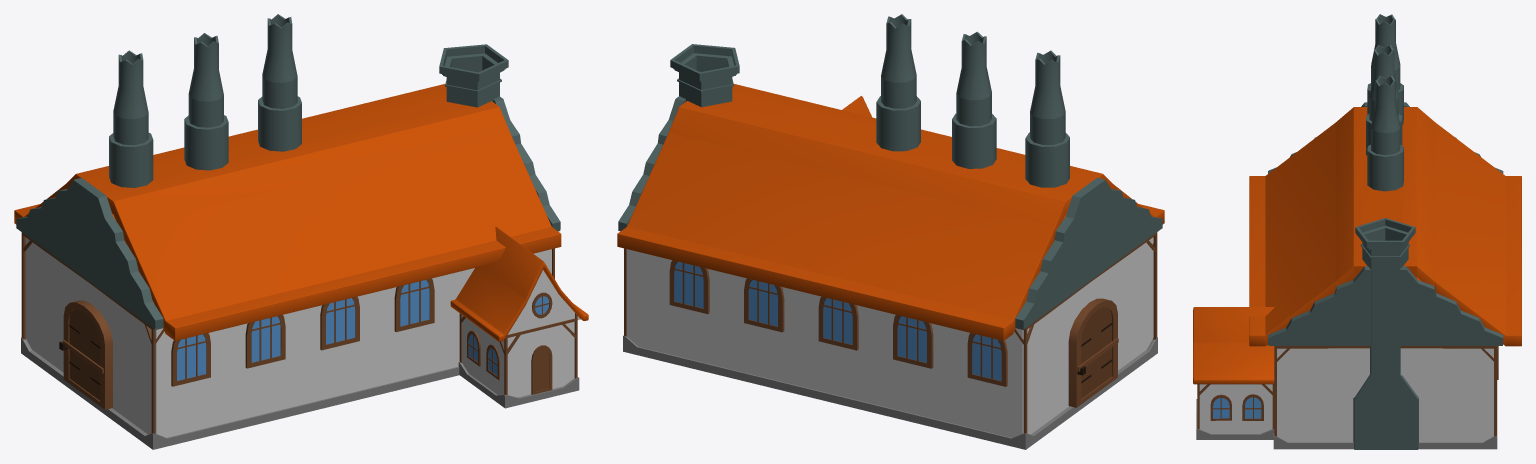
Rendered from factory.fbx.
The picture shows the model from 3 angles, left to right: view 1: azimuth 30°, elevation 25°; view 2: azimuth 150°, elevation 25°; view 3: azimuth 270°, elevation 25°; orthographic projection. The views are drawn at different scales.
Parts seen in each view (by area): view 1: Cube.028, Cube.001, Cube.003, Cube.007, Cube.006, Cylinder.002, Cylinder.006, Cylinder.003, Cube.000, Cylinder.011, Cylinder.018, Plane (+10 smaller); view 2: Cube.028, Cube.001, Cube.003, Cube.000, Cylinder.002, Cylinder.003, Cylinder.006, Cylinder.011, Cylinder.018, Plane, Cylinder.014, Cylinder.016 (+5 smaller); view 3: Cube.028, Cube.001, Cylinder.011, Cube.003, Cube.007, Cylinder.003, Cube.006, Cube.000, Cylinder.002, Cylinder.006, Cube.019, Cube.005 (+2 smaller).
Part boxes in pixels (x1=…): Cube.028: x1=14, y1=84, x2=561, y2=340; Cube.001: x1=25, y1=237, x2=551, y2=437; Cube.003: x1=16, y1=96, x2=560, y2=329; Cube.007: x1=450, y1=226, x2=588, y2=341; Cube.006: x1=462, y1=315, x2=574, y2=397; Cylinder.002: x1=109, y1=50, x2=153, y2=187; Cylinder.006: x1=184, y1=33, x2=228, y2=170; Cylinder.003: x1=258, y1=14, x2=301, y2=151; Cube.000: x1=21, y1=337, x2=459, y2=449; Cylinder.011: x1=439, y1=44, x2=508, y2=107; Cylinder.018: x1=63, y1=300, x2=112, y2=409; Plane: x1=69, y1=309, x2=100, y2=400; Cube.028: x1=617, y1=84, x2=1164, y2=340; Cube.001: x1=626, y1=237, x2=1152, y2=437; Cube.003: x1=618, y1=96, x2=1162, y2=329; Cube.000: x1=623, y1=335, x2=1157, y2=449; Cylinder.002: x1=1025, y1=50, x2=1069, y2=187; Cylinder.003: x1=876, y1=14, x2=920, y2=151; Cylinder.006: x1=952, y1=31, x2=996, y2=168; Cylinder.011: x1=670, y1=44, x2=739, y2=107; Cylinder.018: x1=1068, y1=298, x2=1117, y2=407; Plane: x1=1081, y1=307, x2=1111, y2=398; Cylinder.014: x1=967, y1=333, x2=1007, y2=386; Cylinder.016: x1=818, y1=296, x2=858, y2=350; Cube.028: x1=1249, y1=107, x2=1521, y2=346; Cube.001: x1=1277, y1=348, x2=1493, y2=442; Cylinder.011: x1=1353, y1=218, x2=1418, y2=449; Cube.003: x1=1268, y1=102, x2=1503, y2=345; Cube.007: x1=1193, y1=307, x2=1274, y2=384; Cylinder.003: x1=1367, y1=75, x2=1403, y2=191; Cube.006: x1=1199, y1=384, x2=1272, y2=433; Cube.000: x1=1273, y1=380, x2=1497, y2=449; Cylinder.002: x1=1367, y1=14, x2=1403, y2=124; Cylinder.006: x1=1366, y1=45, x2=1402, y2=155; Cube.019: x1=1275, y1=346, x2=1495, y2=436; Cube.005: x1=1196, y1=399, x2=1274, y2=439.
Size of the model in its own units: 1692 by 1291 by 1355.
